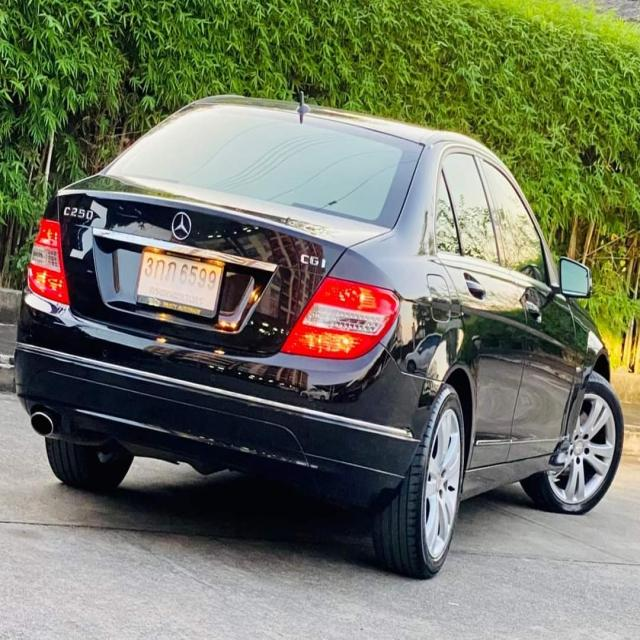license_plate: (138, 246, 225, 316)
